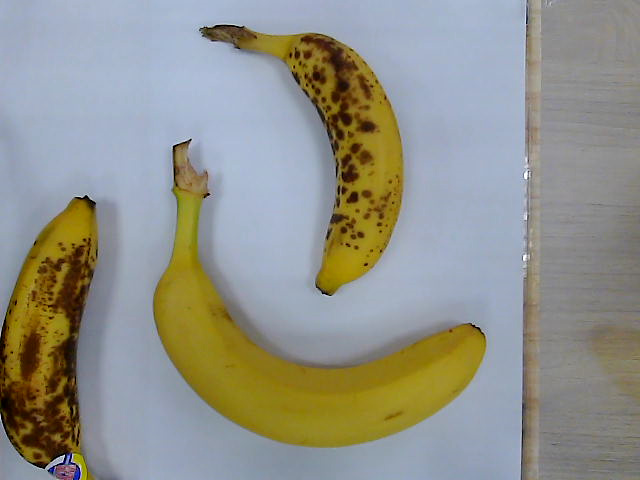fresh_banana: (152, 138, 487, 447)
rotten_banana: (200, 25, 405, 297), (1, 195, 103, 480)
